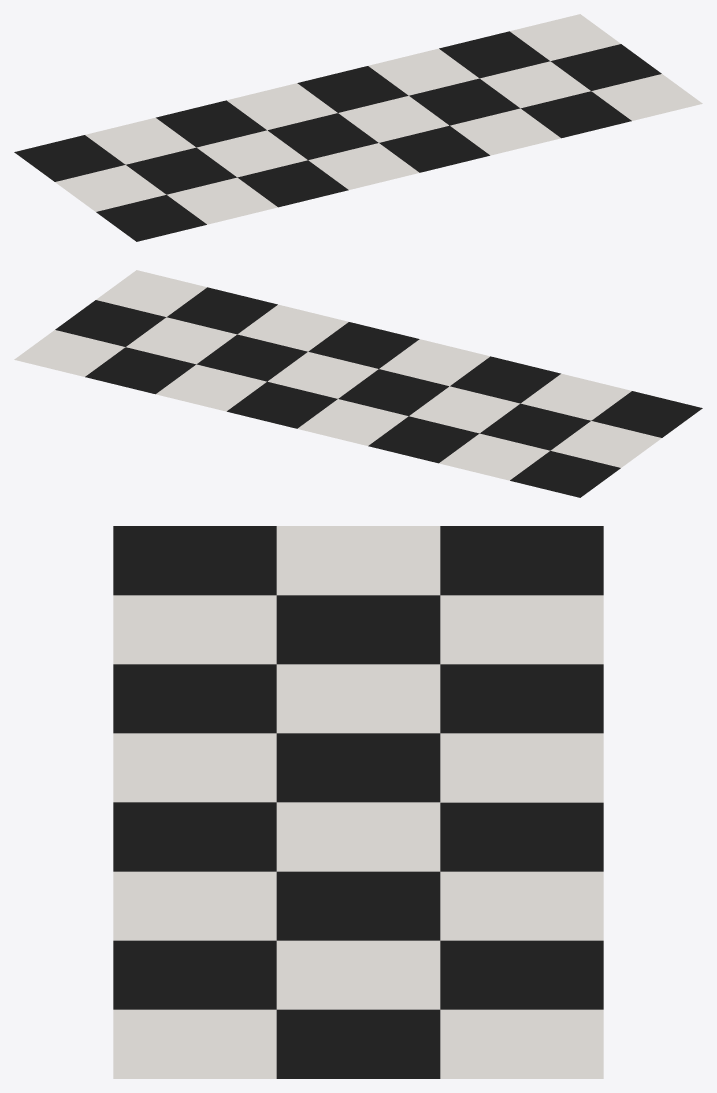
File: CheckPoint02.FBX
3 renders of one model, top to bottom at view 1: azimuth 30°, elevation 25°; view 2: azimuth 150°, elevation 25°; view 3: azimuth 270°, elevation 25°, orthographic. The views are drawn at different scales.
Parts seen in each view (by area): view 1: CheckPoint02; view 2: CheckPoint02; view 3: CheckPoint02.
Boxes of the visible parts, x1,y1,x2,y2 form: CheckPoint02: (14, 14, 702, 241); CheckPoint02: (14, 270, 702, 497); CheckPoint02: (113, 526, 603, 1078).
Size of the model in its own units: 394 by 5.72e-06 by 148.
